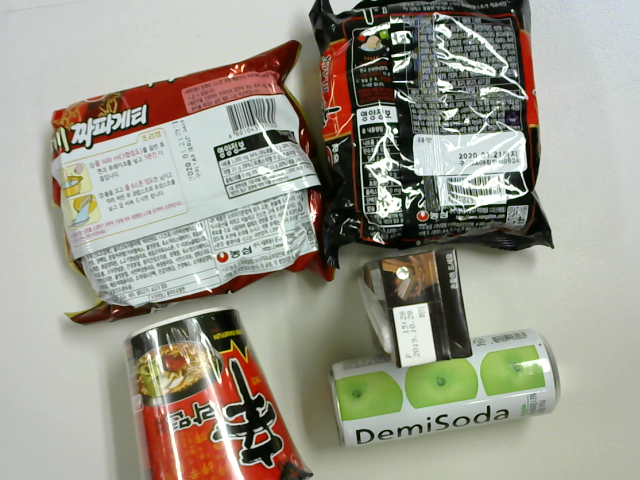Demisoda_Apple_Can_250ml: (327, 328, 563, 450)
Hush_Choco_Drink: (363, 248, 471, 368)
Sichuan_Chapaghetti: (37, 42, 337, 320)
Sinramen_Black: (307, 1, 549, 262)
Sinramen_small: (123, 308, 314, 480)
